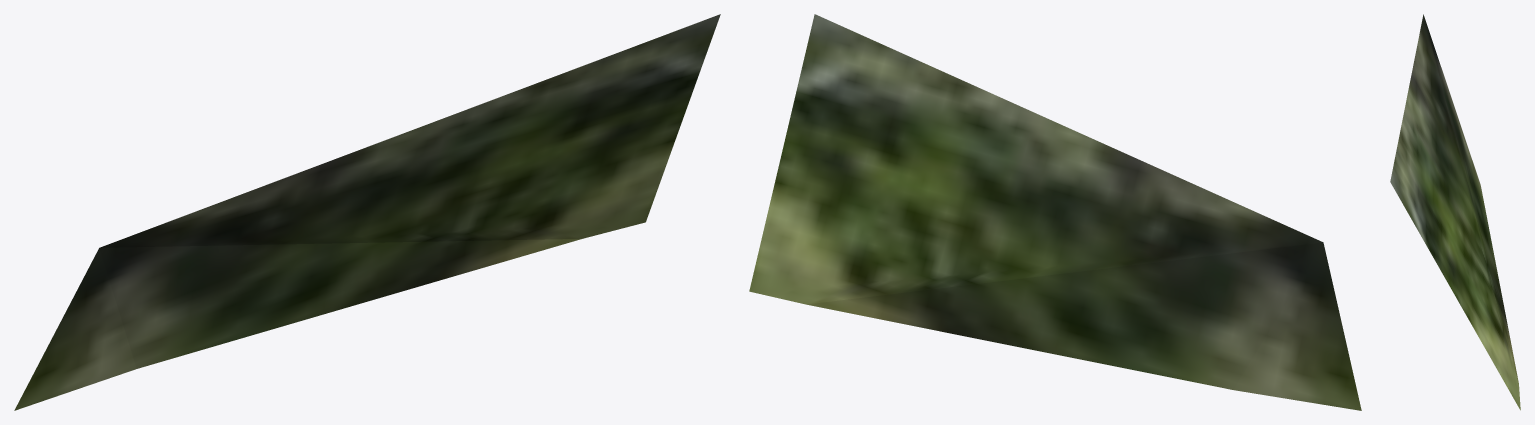
3 renders of one model, left to right at view 1: azimuth 30°, elevation 25°; view 2: azimuth 150°, elevation 25°; view 3: azimuth 270°, elevation 25°, orthographic. The views are drawn at different scales.
Size of the model in its own units: 15.85 by 5.98 by 3.09.
Materials: 1 (1 with a texture image).
